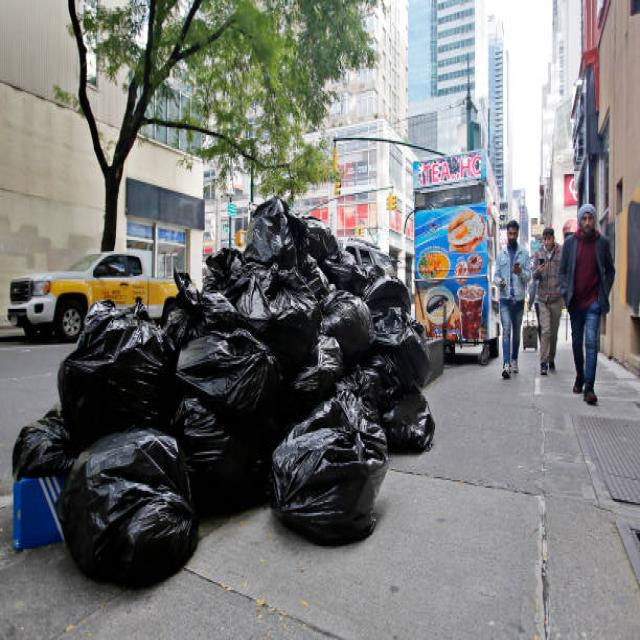trash: (1, 238, 469, 586)
